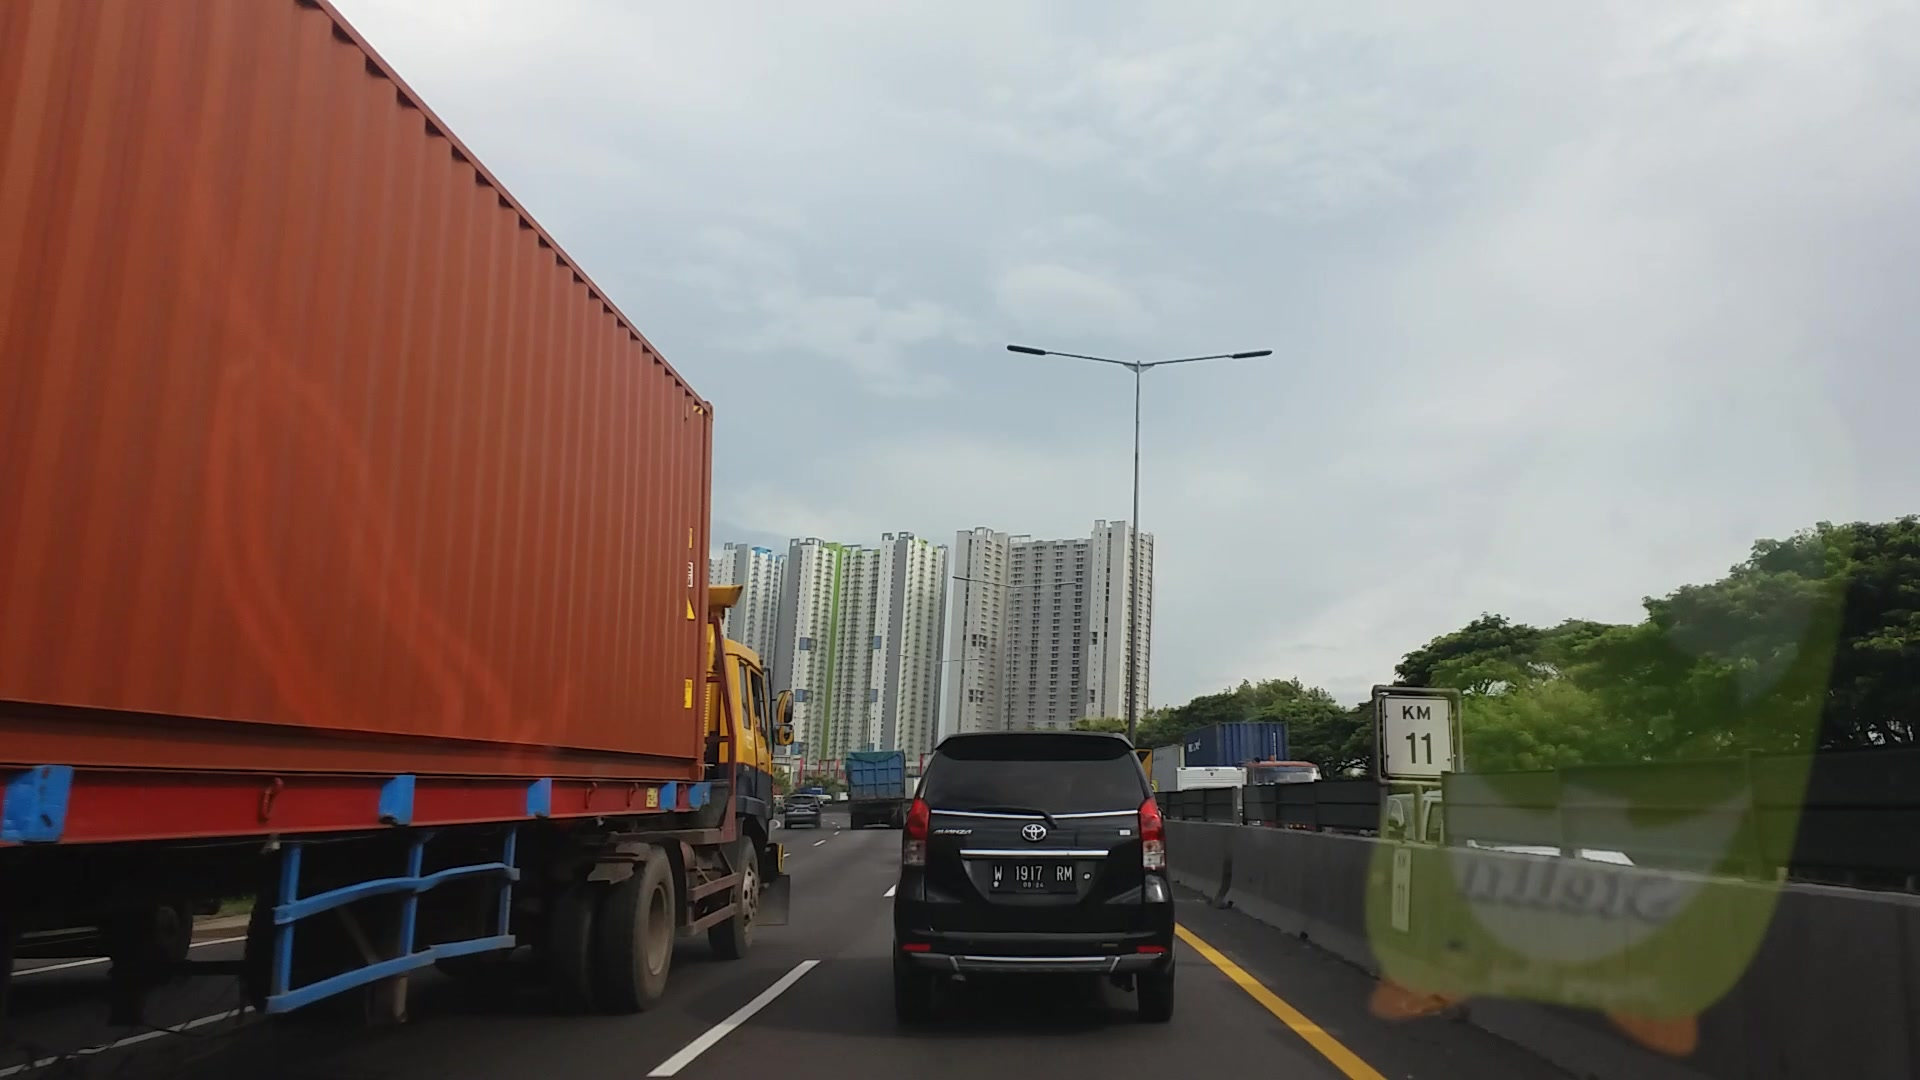plate_positive: (990, 858, 1077, 893)
